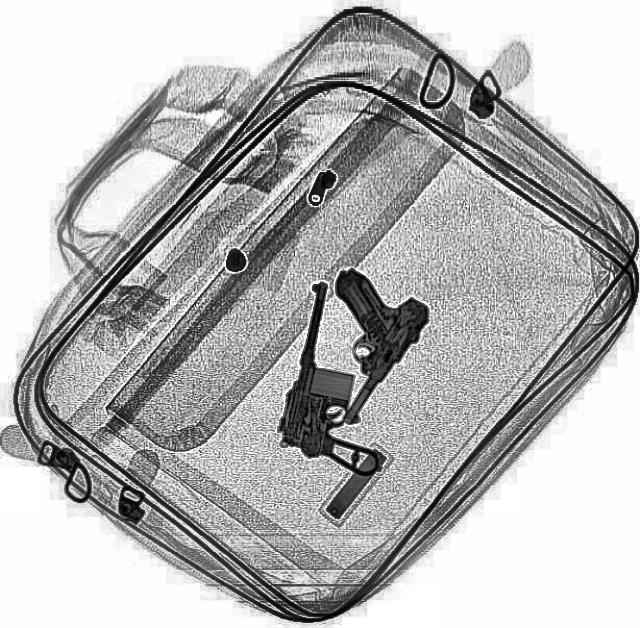Gun: (270, 277, 416, 477), (266, 260, 436, 427)
